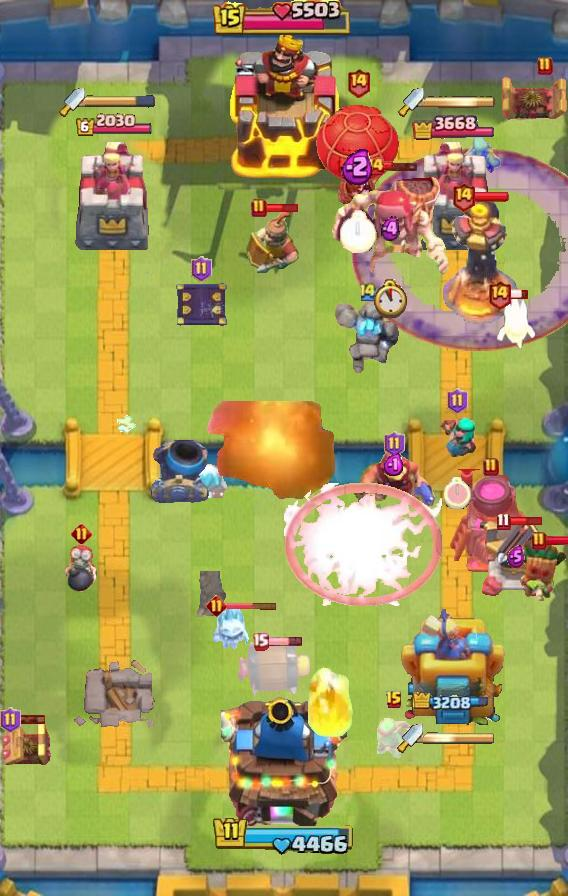bar: (401, 601, 505, 731), (73, 140, 155, 256), (412, 140, 494, 256)
barbarian-evolution: (284, 483, 442, 606)
bat: (497, 292, 537, 350), (209, 606, 251, 650), (185, 462, 231, 497)
cannon-cart: (313, 100, 403, 210)
clock: (212, 815, 356, 857), (213, 0, 355, 38)
earthquake: (245, 207, 301, 273)
electro-dragon: (441, 199, 519, 327)
electro-giant: (330, 168, 450, 278)
electro-spirit: (341, 147, 375, 185), (383, 453, 405, 477), (381, 216, 400, 242), (507, 545, 525, 568)
elixir: (340, 211, 377, 254), (371, 279, 409, 319), (445, 477, 471, 509)
emote: (224, 601, 278, 610), (383, 160, 419, 172), (474, 191, 510, 203), (264, 202, 300, 214), (508, 515, 543, 527), (265, 637, 303, 648), (11, 714, 46, 725), (544, 534, 567, 547), (509, 288, 529, 300)
fireball: (351, 449, 437, 527)
fisherman: (191, 571, 229, 617)
giant-snowball: (373, 715, 415, 759)
goblin-barrel: (510, 540, 568, 606)
goblin-brawler: (498, 74, 568, 124), (0, 719, 54, 769)
hunter: (446, 469, 536, 577)
ice-golem: (63, 536, 99, 594)
ice-spirit-evolution-symbol: (174, 279, 228, 329)
king-tower: (226, 33, 342, 181), (221, 690, 347, 826)
king-tower-bar: (424, 95, 496, 109), (423, 731, 495, 745), (85, 95, 155, 109)
lava-pup: (475, 520, 557, 600)
musketeer: (149, 439, 209, 503)
rocket: (352, 148, 568, 352)
selected: (412, 112, 494, 144), (75, 113, 153, 139), (414, 692, 495, 714)
text: (346, 67, 371, 98), (451, 181, 476, 211), (488, 279, 513, 309), (447, 388, 469, 414), (383, 431, 405, 457), (192, 256, 213, 282), (0, 707, 20, 733), (71, 523, 92, 545), (206, 595, 227, 616), (358, 281, 378, 303), (365, 156, 385, 176), (385, 690, 403, 710), (537, 56, 553, 76), (251, 198, 267, 218), (483, 457, 499, 477), (531, 531, 547, 551), (251, 633, 268, 651), (497, 512, 511, 531)
the-log: (234, 637, 314, 697)
valkyrie: (193, 401, 349, 509), (302, 666, 356, 742)
valkyrie-evolution: (331, 298, 405, 380)
witch: (435, 414, 479, 462)
zap: (458, 133, 502, 175)
